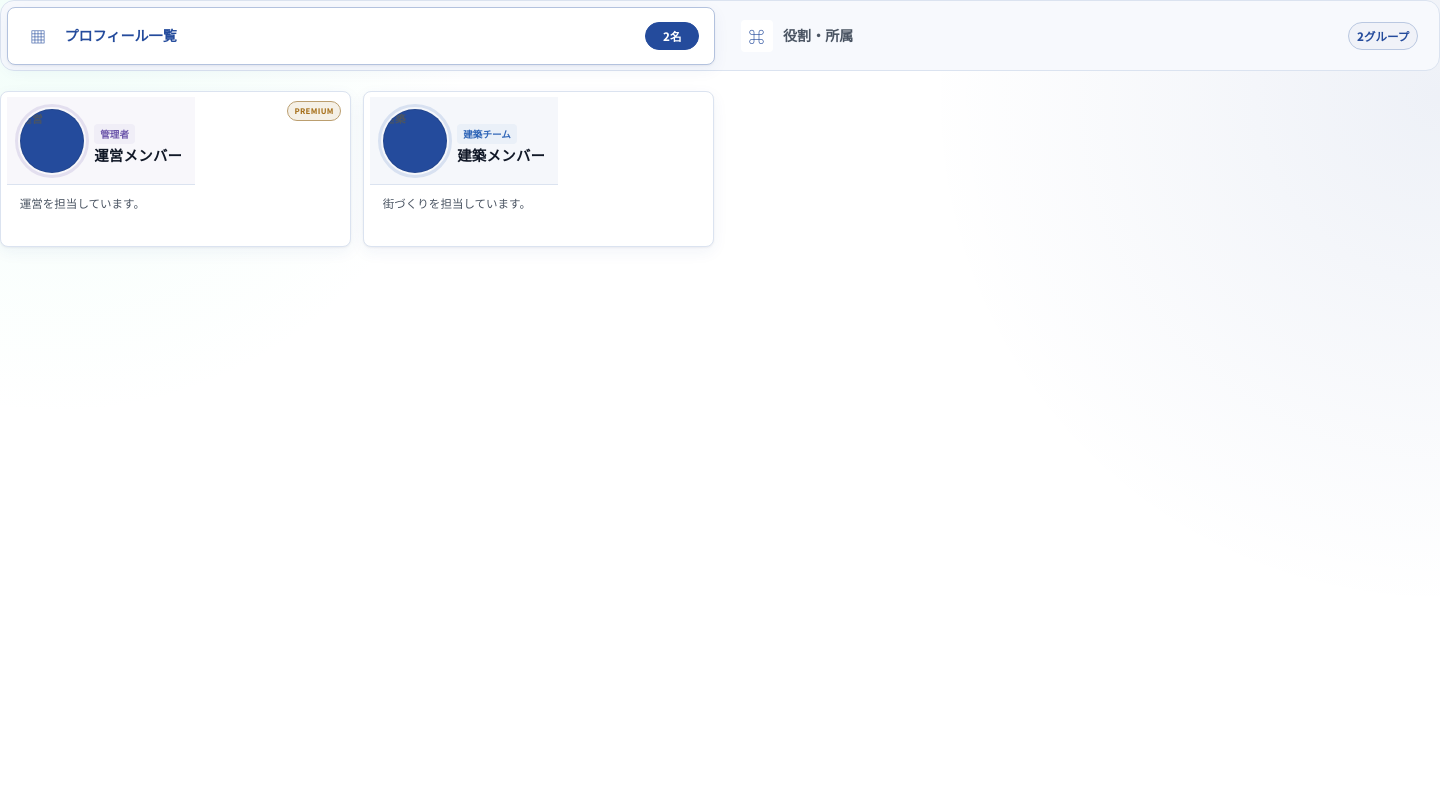
Test: OrganizationDirectory › shows compact profile cards with their group colors
Expected: the heading "建築メンバー" is shown, left=457, top=146, right=545, bottom=165
Expected: the heading "運営メンバー" is shown, left=94, top=146, right=182, bottom=165
Step 1. Click the button "建築 建築チーム 建築メンバー 街づくりを担当しています。" → (538, 169), box left=363, top=91, right=714, bottom=247
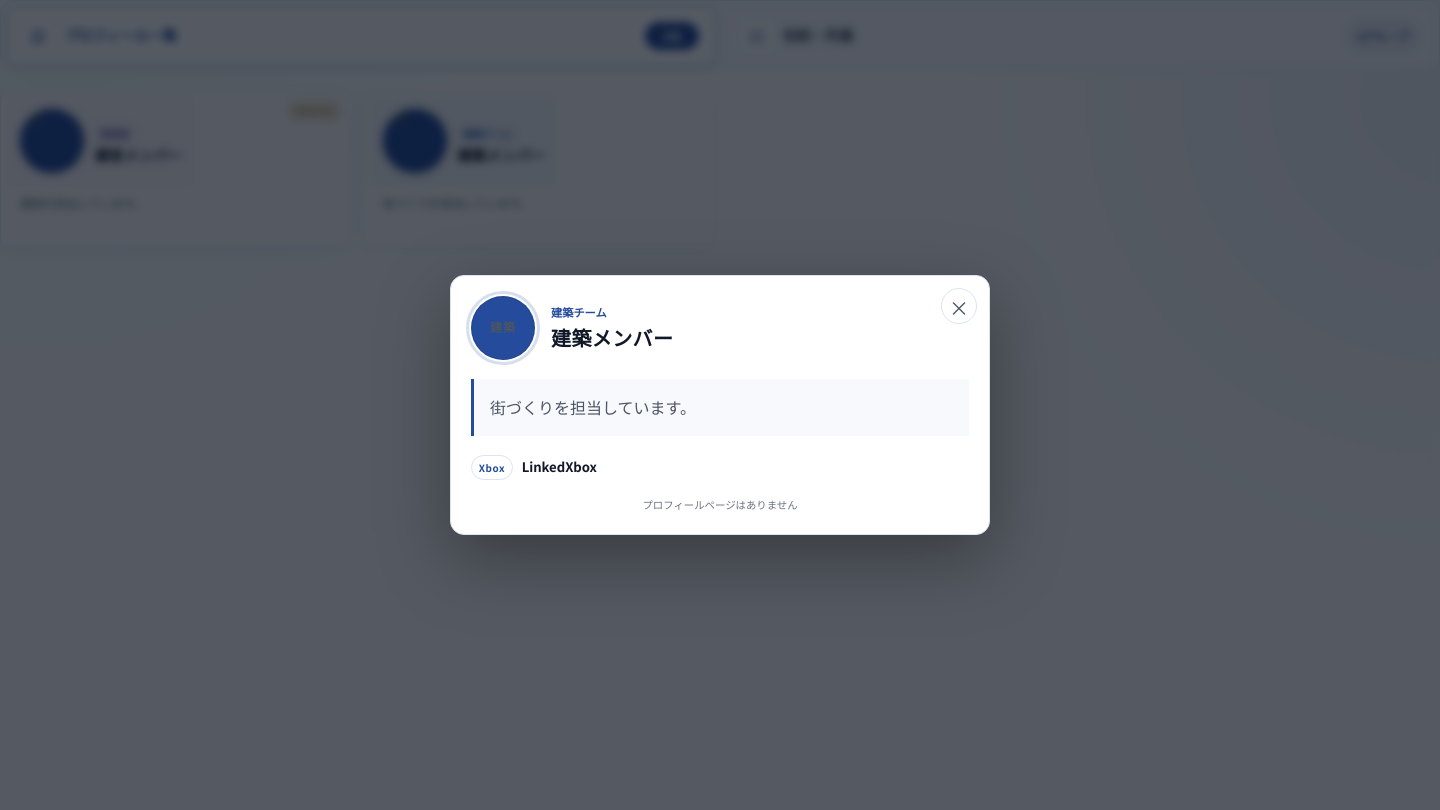
Expected: the dialog shows "街づくりを担当しています。", left=490, top=395, right=696, bottom=419
Expected: the dialog shows "LinkedXbox", left=522, top=457, right=597, bottom=476
Expected: the dialog shows "プロフィールページはありません", left=642, top=497, right=798, bottom=512
Step 2. Click the button named "詳細を閉じる" → (959, 306), box left=941, top=288, right=977, bottom=324
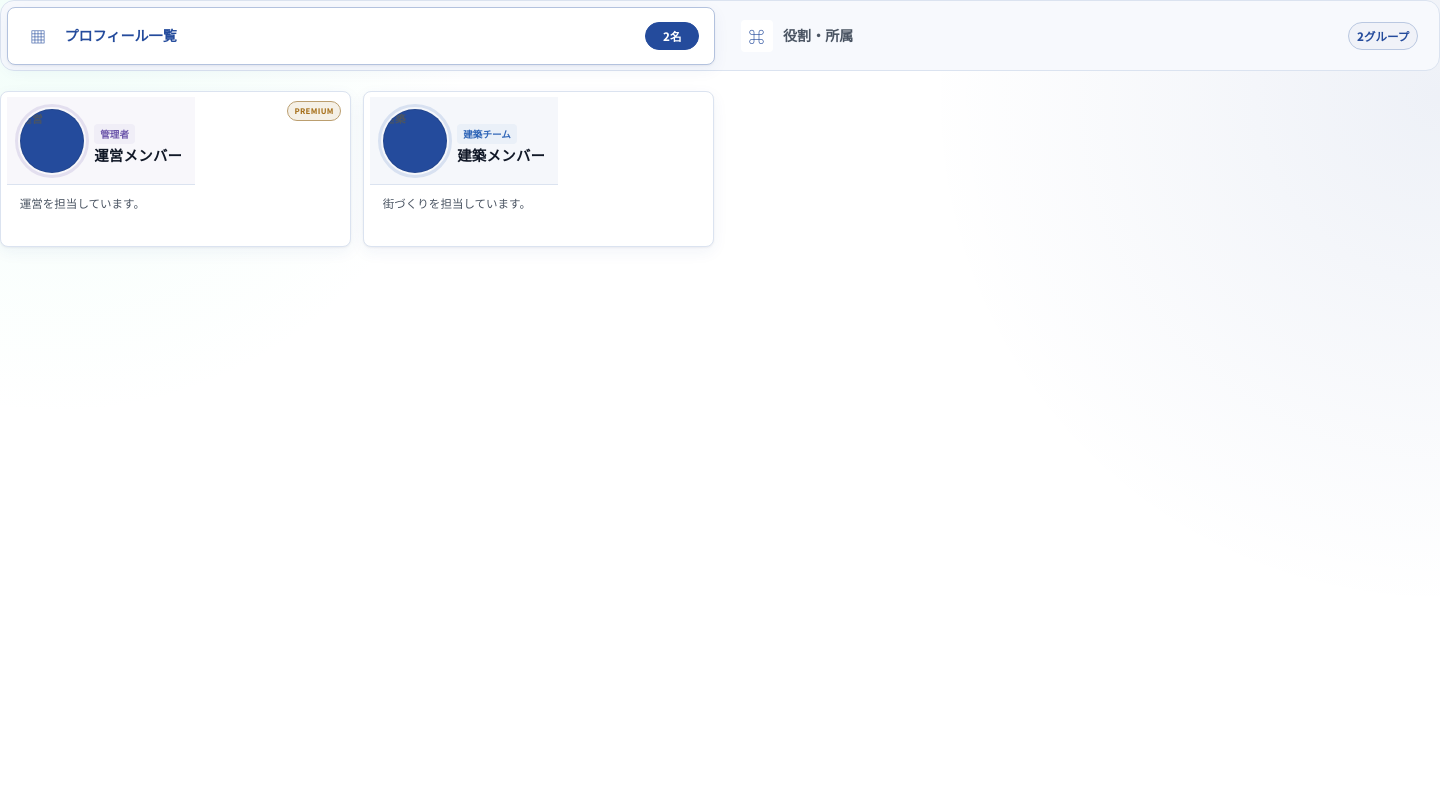
Expected: the dialog is gone
